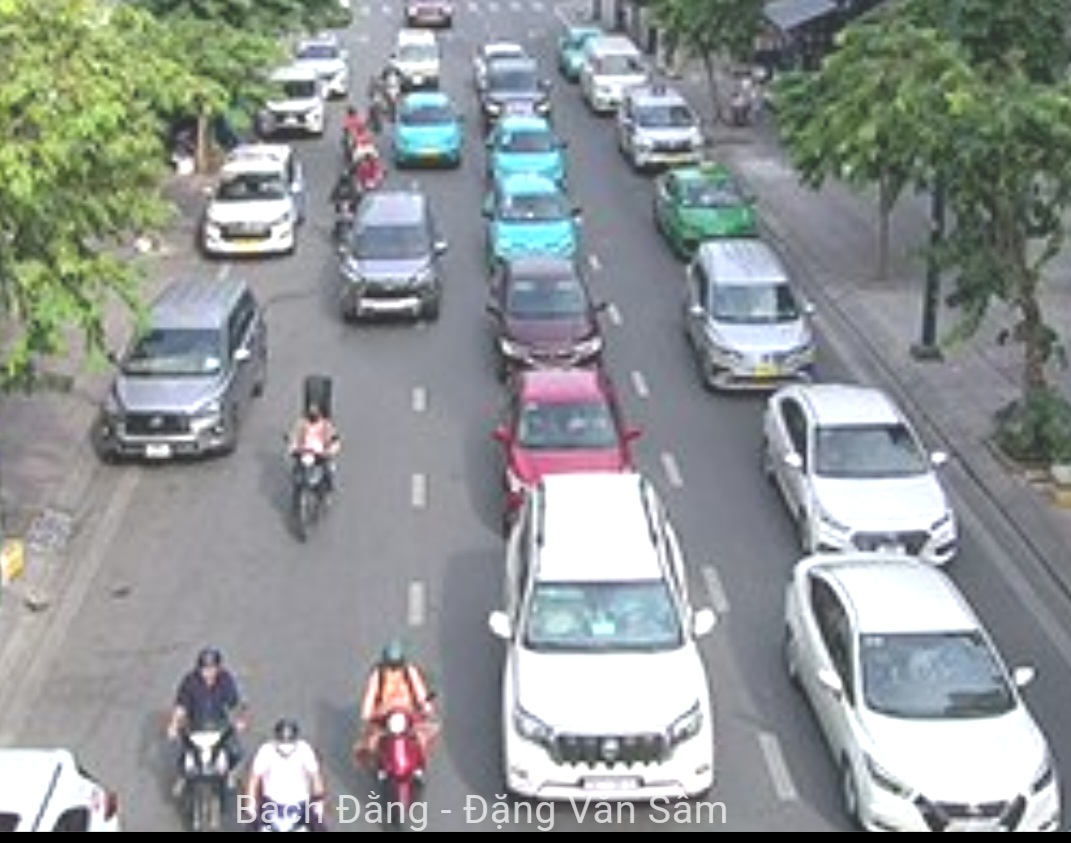car: (781, 556, 1054, 830), (503, 485, 716, 806), (765, 388, 960, 560), (100, 273, 267, 471), (686, 242, 817, 391), (499, 373, 634, 482), (340, 189, 439, 324), (495, 259, 609, 373), (201, 143, 307, 256), (652, 162, 763, 239), (486, 180, 578, 268), (619, 84, 711, 169), (389, 94, 470, 173), (483, 116, 569, 181), (258, 63, 326, 138), (474, 55, 551, 118), (583, 38, 649, 111), (389, 29, 449, 92)
